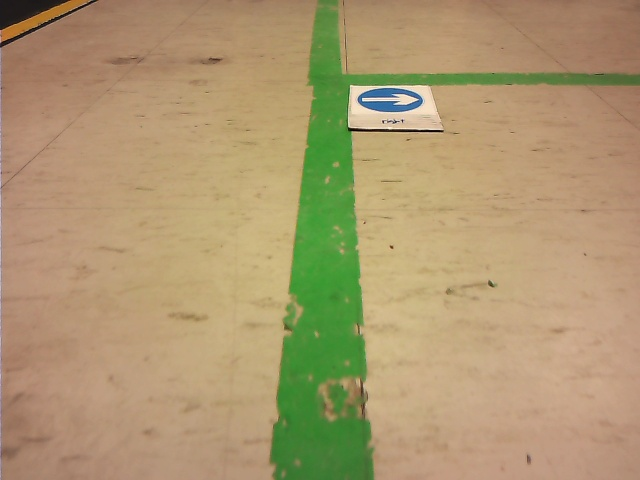TURN RIGHT: (357, 87, 423, 112)
